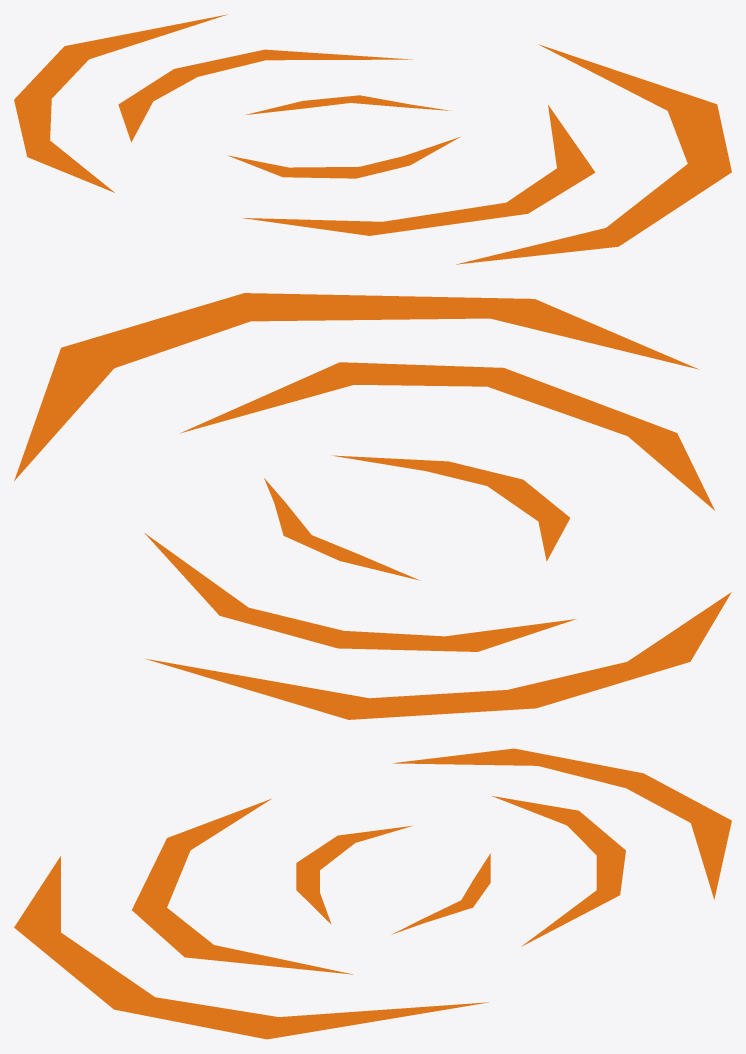
File: obj_fishing_spot_11_0.obj
3 renders of one model, top to bottom at view 1: azimuth 30°, elevation 25°; view 2: azimuth 150°, elevation 25°; view 3: azimuth 270°, elevation 25°, orthographic. The views are drawn at different scales.
Size of the model in its own units: 0.9141 by 0 by 0.9531.
